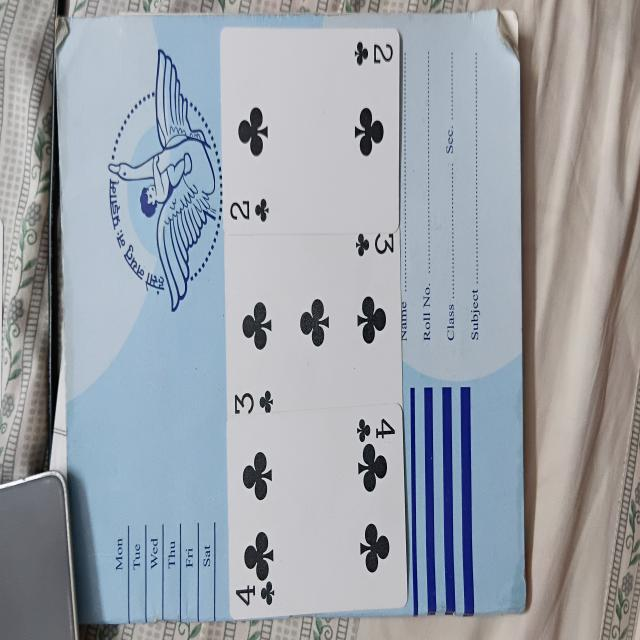2C: (220, 24, 398, 230)
3C: (223, 232, 401, 408)
4C: (228, 414, 408, 616)
